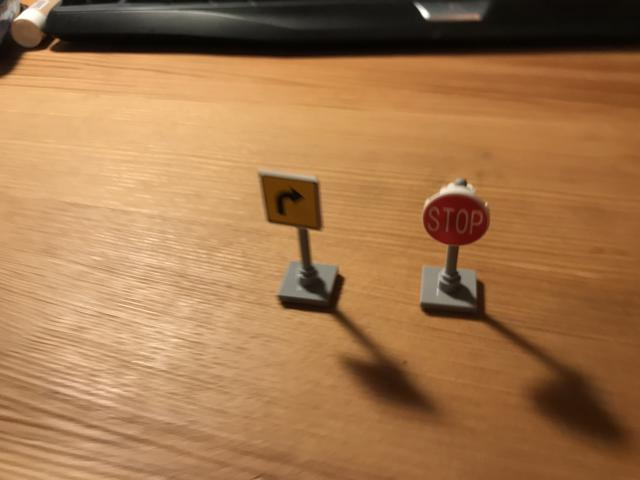fahrtrichtung rechts: (257, 172, 323, 233)
stop: (421, 191, 493, 246)
